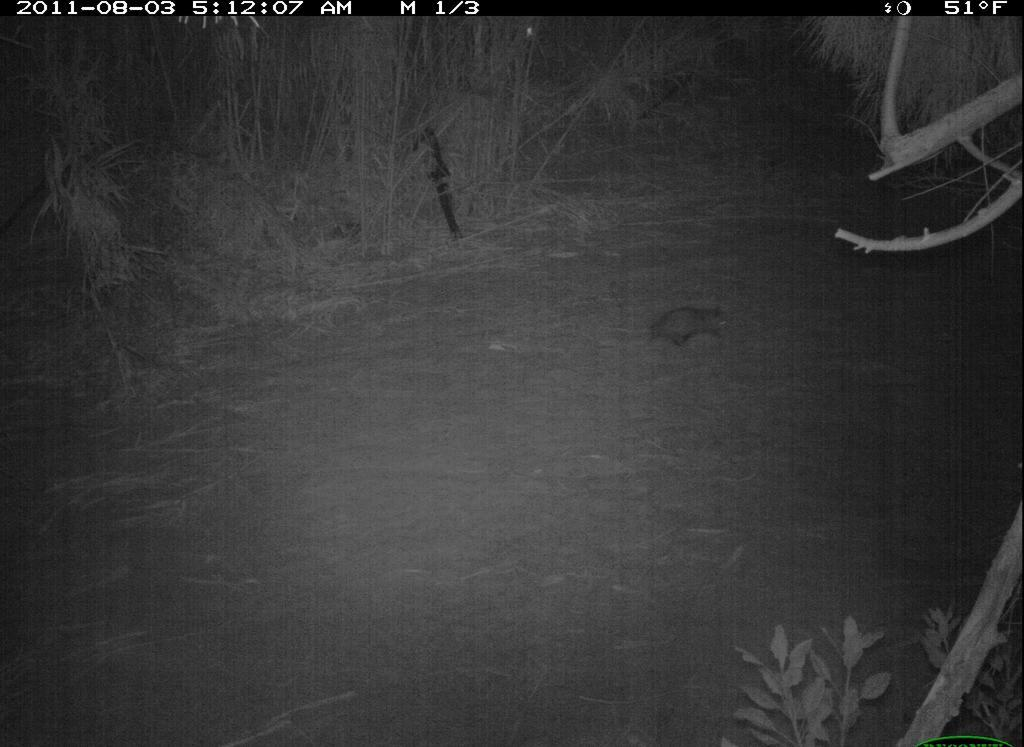opossum: (637, 290, 738, 361)
